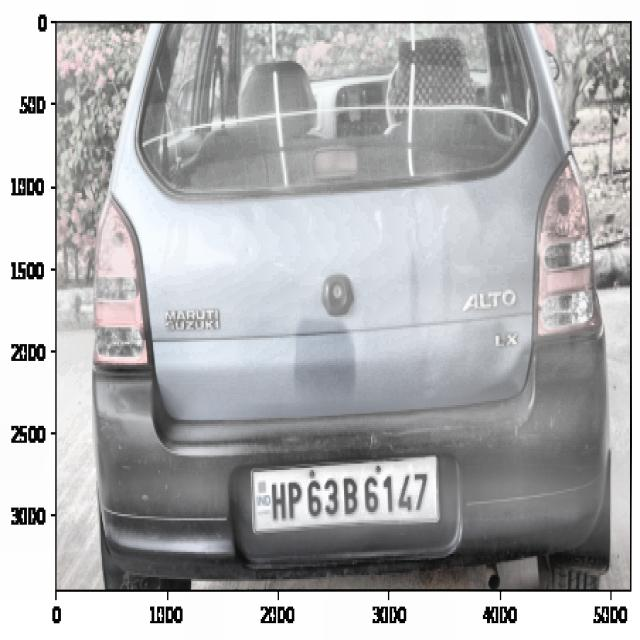license_plate: (261, 462, 434, 531)
